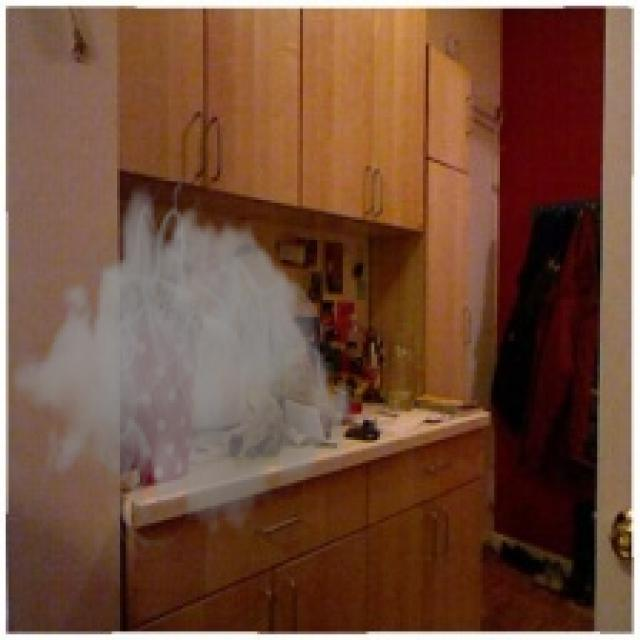smoke: (9, 171, 354, 566)
